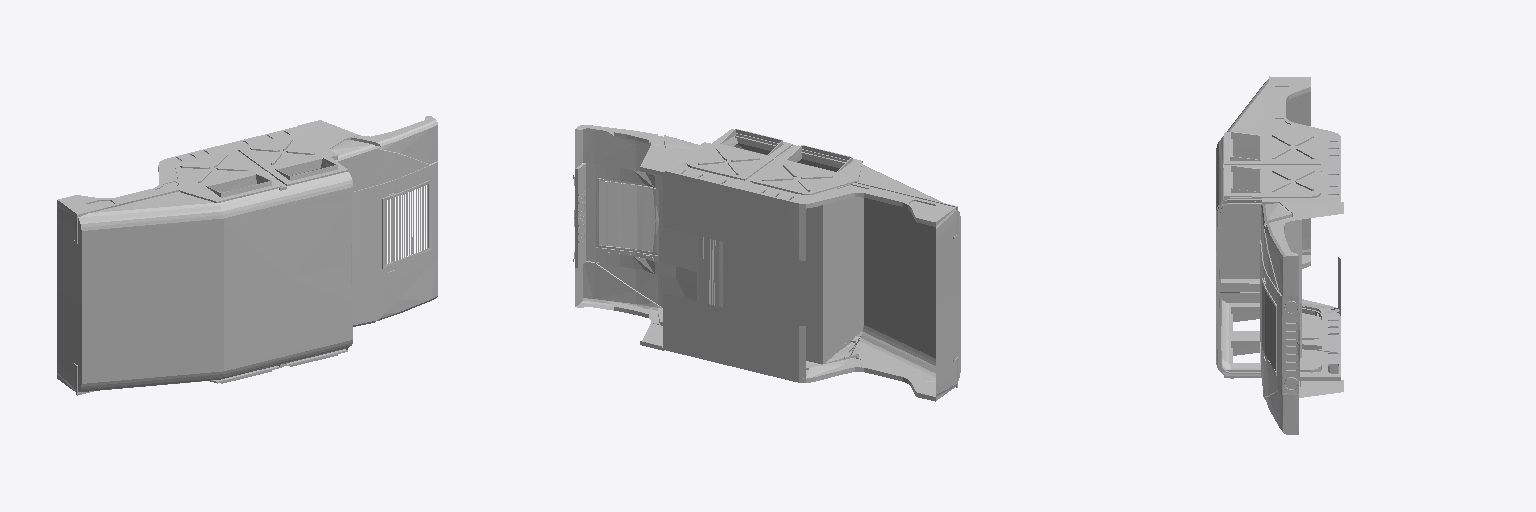
The model's file is body.obj.
The picture shows the model from 3 angles: view 1: azimuth 30°, elevation 25°; view 2: azimuth 150°, elevation 25°; view 3: azimuth 270°, elevation 25°; orthographic projection.
Visible parts, largest first — view 1: default; view 2: default; view 3: default.
Part boxes in pixels (x1,y1,x2,y2): default: (57, 116, 437, 395); default: (573, 125, 960, 401); default: (1216, 76, 1343, 434).
Bounding box in the file's own units: 4.71 × 2.32 × 1.41.